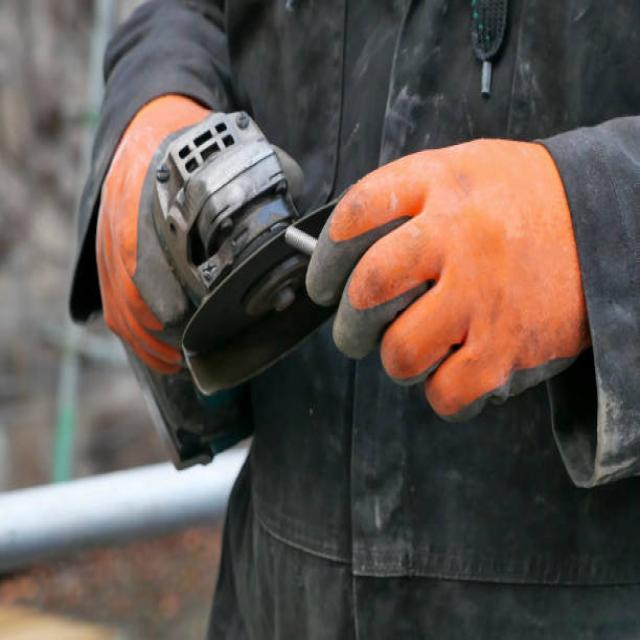gloves: (304, 133, 593, 421), (97, 95, 306, 376)
